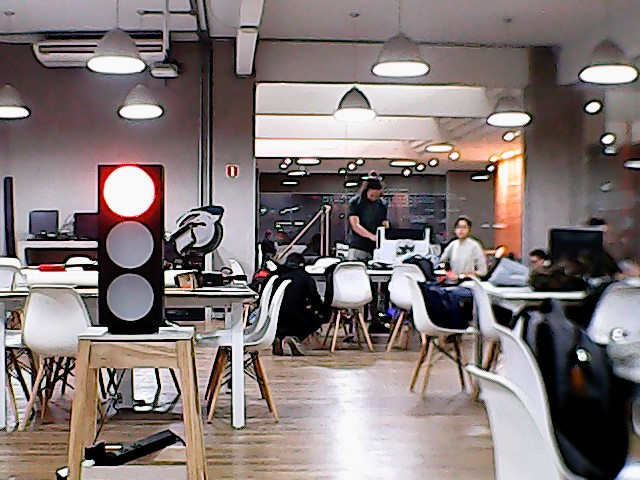vermelho: (92, 159, 170, 334)
